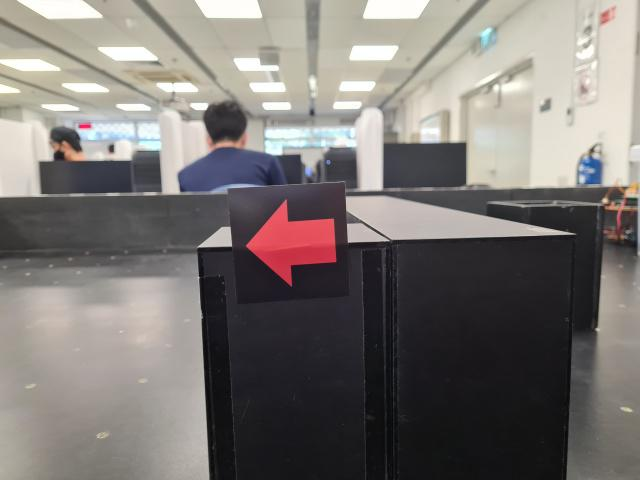left: (226, 181, 350, 304)
